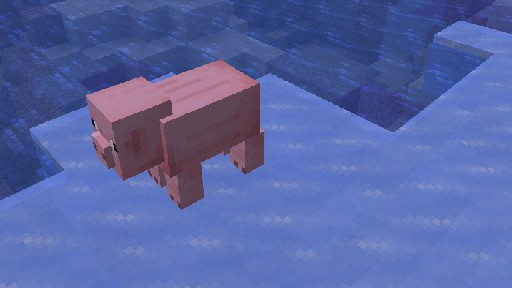pig: (85, 58, 264, 209)
